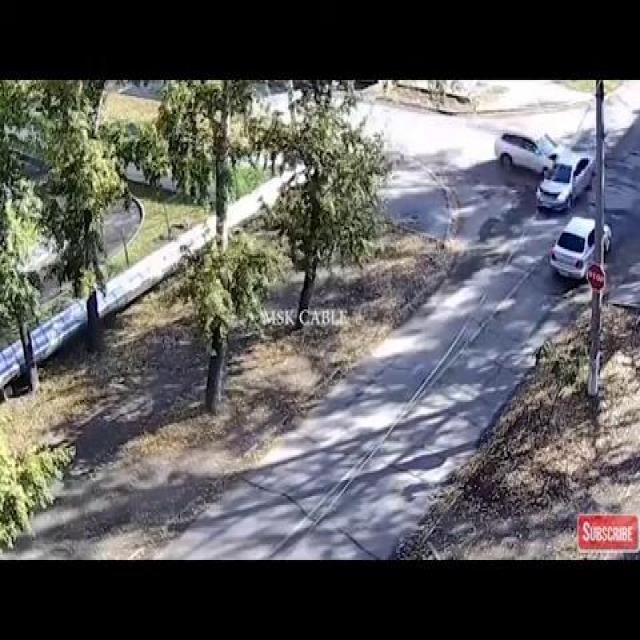accident: (493, 115, 595, 201)
